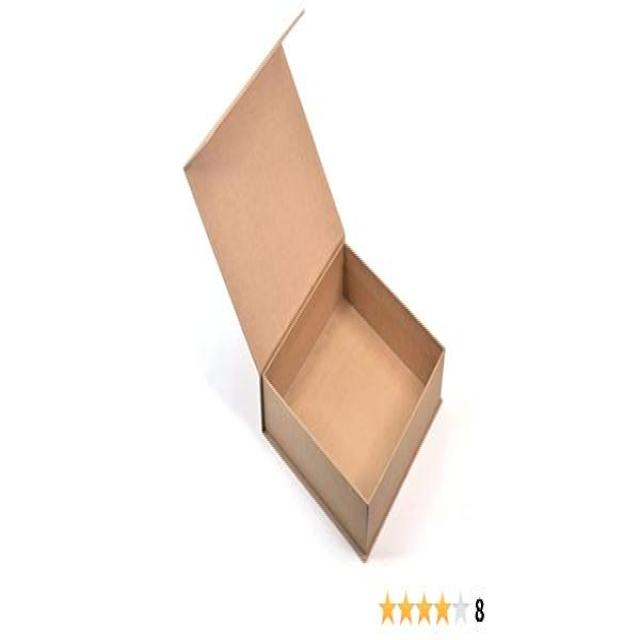Garbage: (177, 4, 454, 567)
